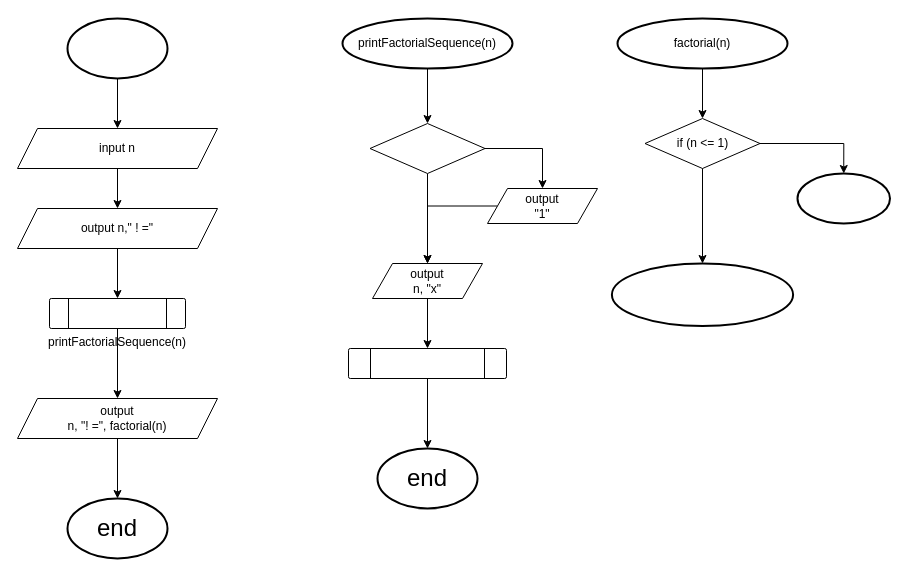
This 908x576 diagram has some shape labels left out. Each missing label, with the box of its shape:
if (n == 1): (369, 122, 485, 174)
printFactorialSequence(n - 1): (348, 348, 506, 378)
return 1: (796, 172, 890, 224)
return n * factorial(n -1): (610, 262, 794, 326)
start: (66, 17, 168, 79)
